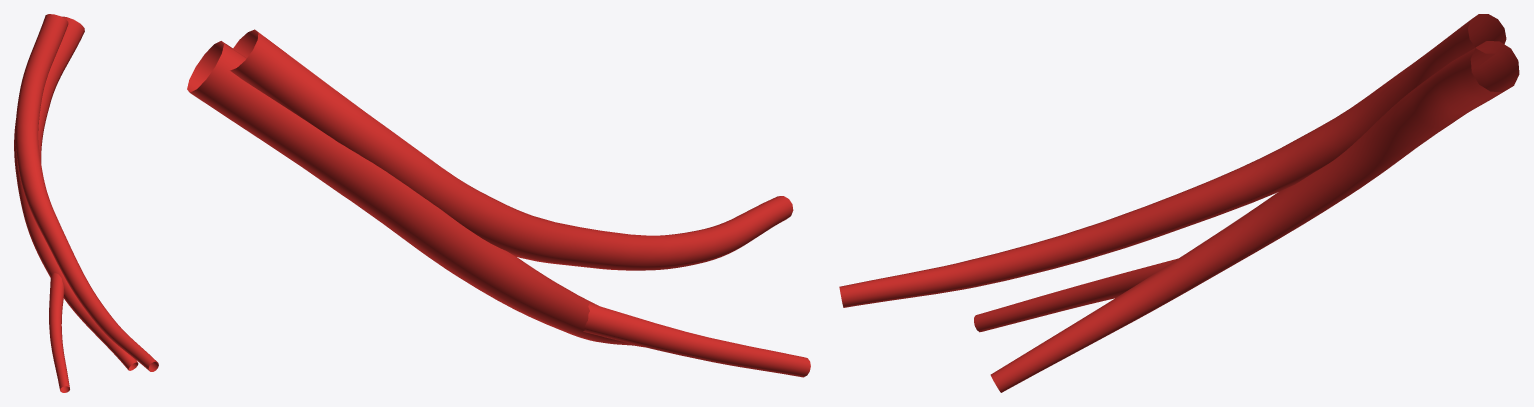
The model's file is circulatorio-medial-vein-of-right-lung.glb.
3 renders of one model, left to right at view 1: azimuth 30°, elevation 25°; view 2: azimuth 150°, elevation 25°; view 3: azimuth 270°, elevation 25°, orthographic. The views are drawn at different scales.
Visible parts, largest first — view 1: Medial vein of right lung; view 2: Medial vein of right lung; view 3: Medial vein of right lung.
Boxes of the visible parts, bbox=[...] form: Medial vein of right lung: bbox=[14, 14, 158, 392]; Medial vein of right lung: bbox=[187, 29, 810, 377]; Medial vein of right lung: bbox=[839, 14, 1519, 392].
Size of the model in its own units: 0.0372 by 0.0522 by 0.075.
